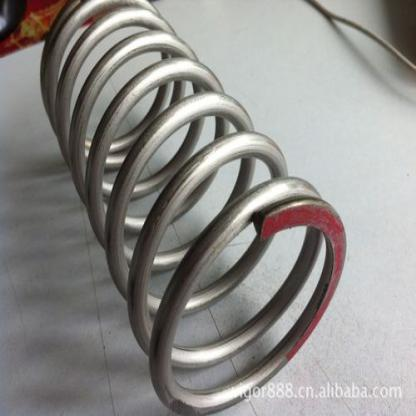FOD: (35, 0, 350, 415)
